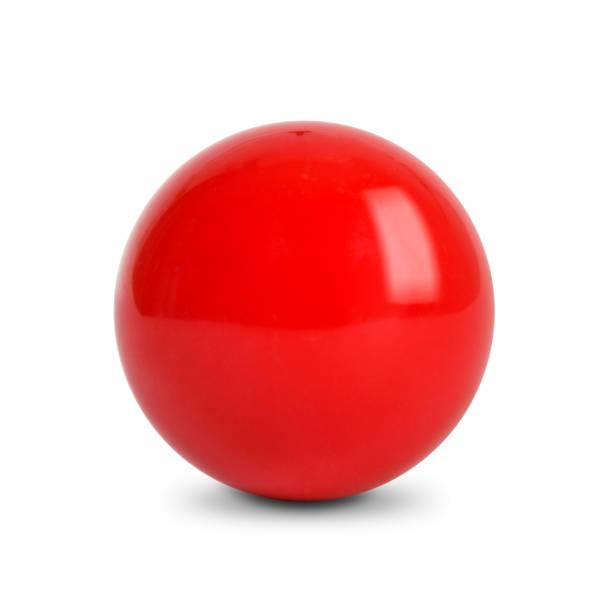Red_Ball: (109, 111, 496, 491)
